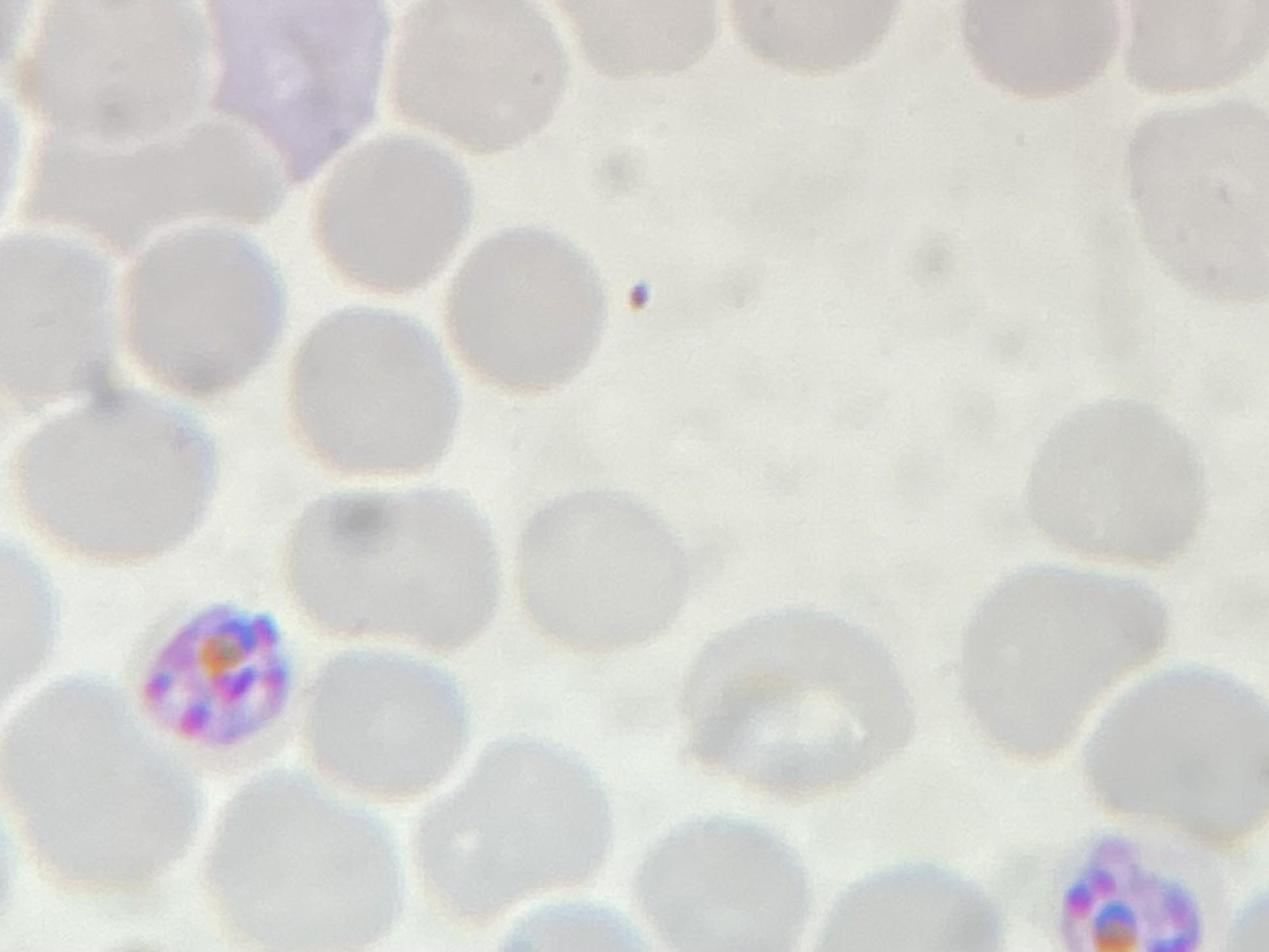Infected: (145, 601, 289, 749), (1058, 834, 1207, 952)
Uninfected: (683, 609, 914, 801), (959, 564, 1172, 763), (7, 680, 204, 895), (417, 737, 623, 915), (212, 767, 406, 952), (287, 491, 502, 648), (24, 391, 220, 559), (1086, 666, 1269, 842), (1027, 395, 1206, 563), (289, 303, 455, 477), (445, 226, 610, 395), (512, 491, 682, 654), (388, 1, 566, 156), (125, 224, 289, 386), (1130, 104, 1269, 294), (311, 132, 474, 293), (302, 649, 470, 800), (635, 813, 809, 952), (0, 228, 124, 386)
